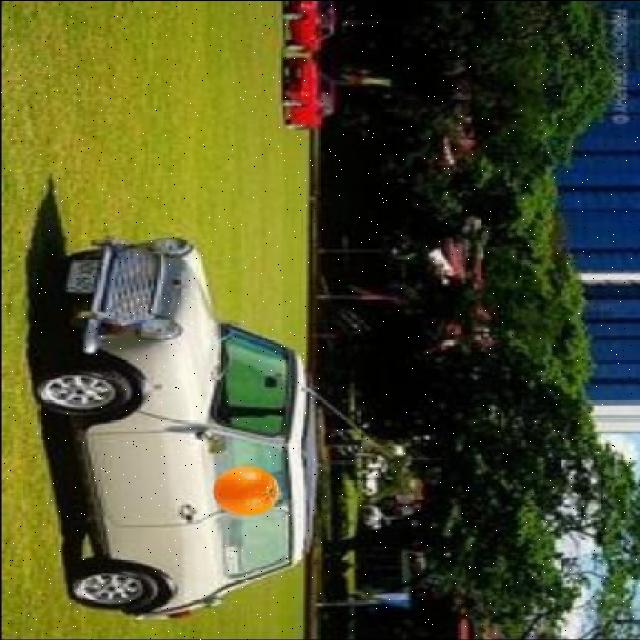Orange: (211, 466, 280, 517)
